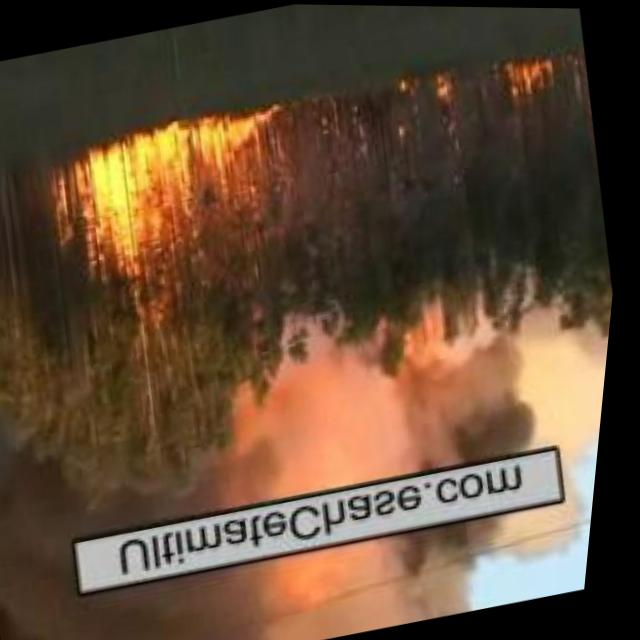Fire: (54, 100, 289, 265), (393, 66, 459, 119), (503, 57, 554, 93)
